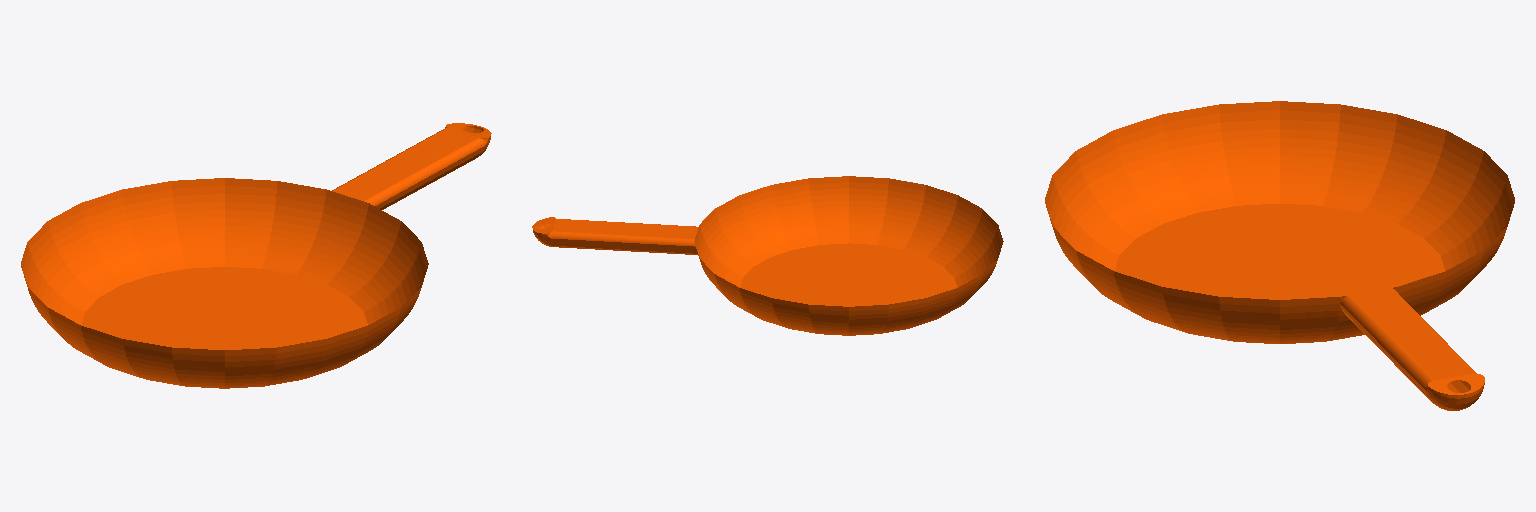
URDF robot description (Pan_284e5f15a88a83bc749d52b3e269018):
<?xml version="1.0" ?>
<robot name="Pan_284e5f15a88a83bc749d52b3e269018">
   <material name="obj_color">
      <color rgba="1.0 0.423529411765 0.0392156862745 1.0"/>
   </material>
   <link name="top">
      <inertial>
         <origin rpy="0.000908798188121698 0.001901935539105216 0.0027303435204549" xyz="-0.006427722482745339 -0.002373394891342543 0.001546429636063245"/>
         <mass value="0.6417700407413069"/>
         <inertia ixx="0.001054760231661711" ixy="-0.0003509119726154192" ixz="-3.077492997672733e-05" iyy="0.001756582845934304" iyz="-1.274722313331115e-05" izz="0.002729734170085799"/>
      </inertial>
      <visual>
         <origin rpy="0 0 0" xyz="0 0 0"/>
         <geometry>
            <mesh filename="top_watertight_tiny.stl" scale="1 1 1"/>
         </geometry>
         <material name="obj_color"/>
      </visual>
      <collision>
         <origin rpy="0 0 0" xyz="0 0 0"/>
         <geometry>
            <mesh filename="top_watertight_tiny.obj" scale="1 1 1"/>
         </geometry>
      </collision>
   </link>
   <link name="bottom">
      <inertial>
         <origin rpy="1.633333333199431e-08 1.633333333199431e-08 1.633333333362855e-08" xyz="0.3464080000000008 0.3464080000000008 0.3464080000000008"/>
         <mass value="0.0009800000000000017"/>
         <inertia ixx="1.633333333253906e-08" ixy="5.447480642029219e-19" ixz="5.447480642029219e-19" iyy="1.633333333253906e-08" iyz="5.447480642029219e-19" izz="1.633333333253906e-08"/>
      </inertial>
      <visual>
         <origin rpy="0 0 0" xyz="0 0 0"/>
         <geometry>
            <mesh filename="bottom_watertight_tiny.stl" scale="1 1 1"/>
         </geometry>
         <material name="obj_color"/>
      </visual>
   </link>
   <link name="world"/>
   <joint name="world_to_base" type="fixed">
      <origin xyz="0 0 0"/>
      <axis xyz="0 0 0"/>
      <parent link="world"/>
      <child link="bottom"/>
   </joint>
   <joint name="rotation" type="revolute">
      <origin xyz="0 0 0"/>
      <axis xyz="0 0 -1"/>
      <parent link="bottom"/>
      <child link="top"/>
      <dynamics damping="1.0" friction="1.0"/>
      <limit effort="0.1" velocity="0.1" lower="0" upper="0.001"/>
   </joint>
</robot>

--- Render facts (derived) ---
3 views of the same robot in one strip: view 1: azimuth 30°, elevation 25°; view 2: azimuth 150°, elevation 25°; view 3: azimuth 270°, elevation 25° (orthographic).
Model Pan_284e5f15a88a83bc749d52b3e269018 with 3 links and 2 joints (1 revolute, 1 fixed), rooted at world, posed every joint at zero.
Visible links, largest first — view 1: top; view 2: top; view 3: top.
Boxes of the visible links, x1,y1,x2,y2 form: top: (21,123,491,388); top: (532,176,1003,335); top: (1045,101,1514,410).
Size in the robot's own frame: 0.2472 by 0.1695 by 0.0291 metres.
Meshes: 2 distinct files referenced, 1 mesh visuals loaded (1 binary STL); not drawn: 1 (reference not matched to a file when rendering).
